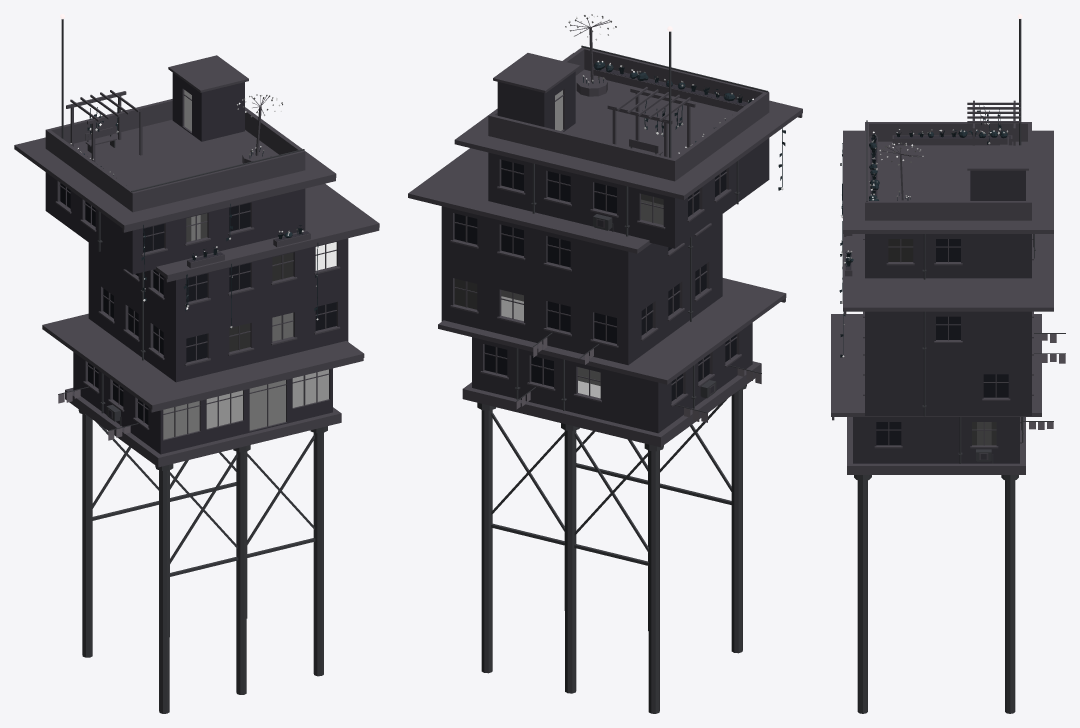
Rendered from mooring_shophouse_e.glb.
3 renders of one model, left to right at view 1: azimuth 30°, elevation 25°; view 2: azimuth 150°, elevation 25°; view 3: azimuth 270°, elevation 25°, orthographic. The views are drawn at different scales.
Visible parts, largest first — view 1: mooring_shophouse_e; view 2: mooring_shophouse_e; view 3: mooring_shophouse_e.
Part boxes in pixels (box(x1,y1,x2,y2)): mooring_shophouse_e: box(14, 14, 379, 713); mooring_shophouse_e: box(408, 14, 802, 713); mooring_shophouse_e: box(831, 14, 1065, 713).
Size of the model in its own units: 14.2 by 34.16 by 11.8.
11 materials, 3 textured.
